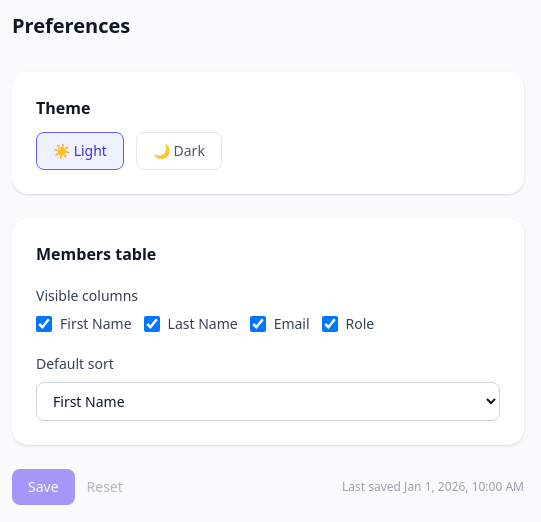
Test: PreferencesPage › Save button › becomes enabled after a field is changed
Expected: the text "Last saved Jan 1, 2026, 10:00 AM" is shown, [342,479,524,495]
What coordinates should you click on to do the following:
click the radio button labelled "🌙 Dark"
I would click on:
 (179, 151)
Its box is [136,132,222,170].
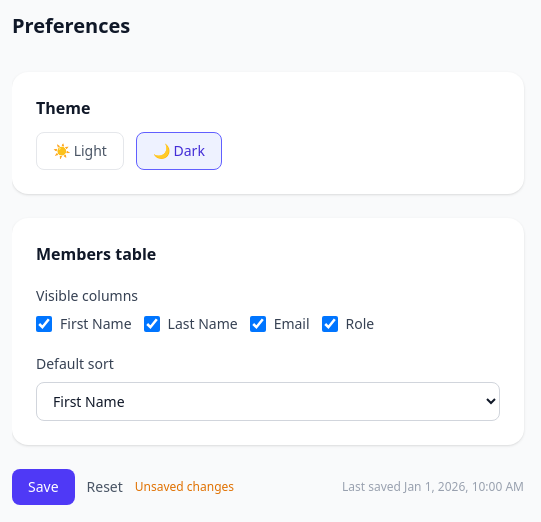
Expected: the button "Save" is enabled, [12,469,75,505]
